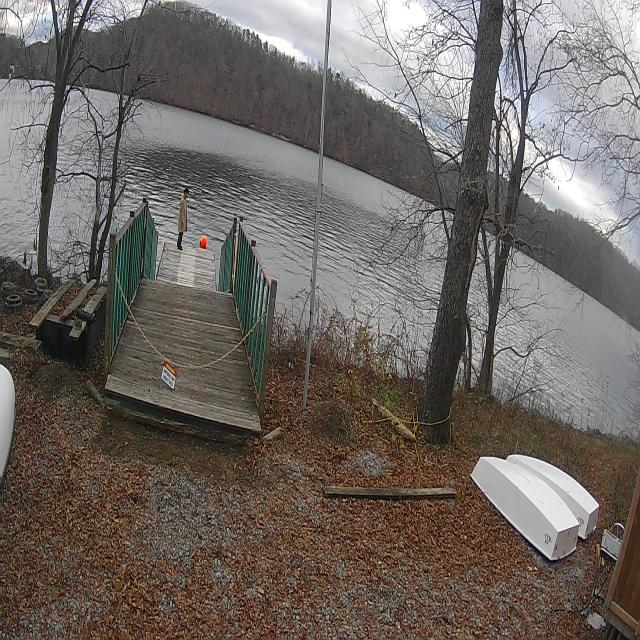Buoy: (198, 233, 208, 252)
